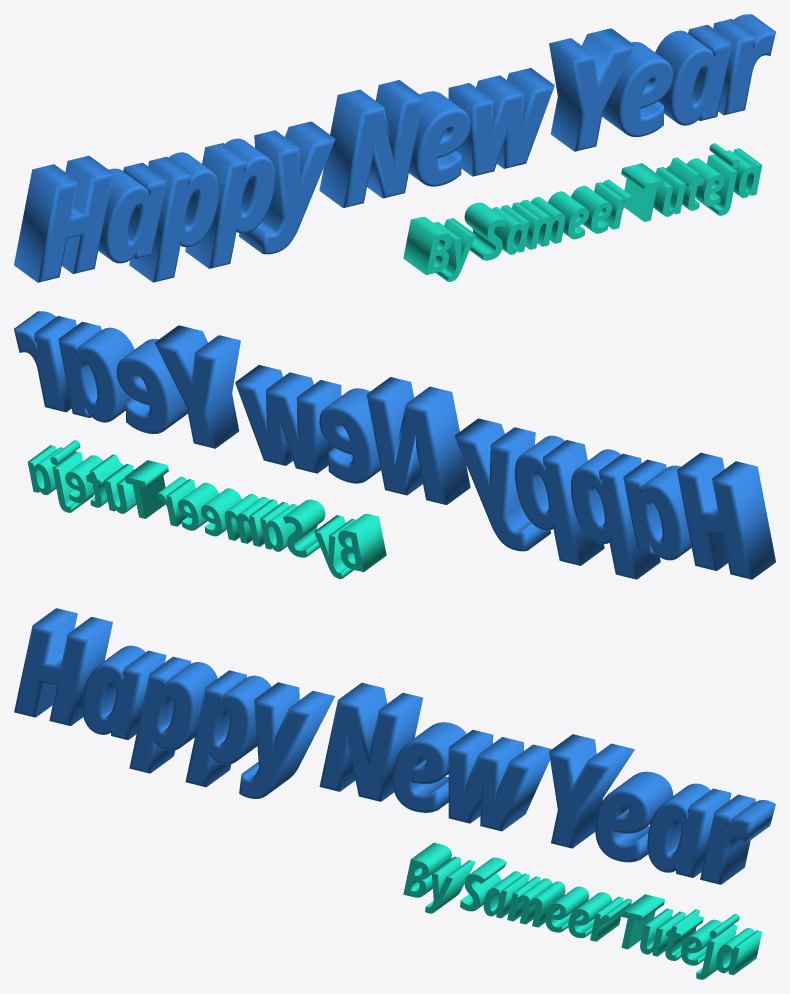
The picture shows the model from 3 angles, top to bottom: view 1: azimuth 30°, elevation 25°; view 2: azimuth 150°, elevation 25°; view 3: azimuth 330°, elevation 25°; orthographic projection.
Visible parts, largest first — view 1: Text, Text.001; view 2: Text, Text.001; view 3: Text, Text.001.
Part boxes in pixels (box(x1,y1,x2,y2)): Text: box(14, 14, 775, 282); Text.001: box(403, 143, 762, 281); Text: box(14, 311, 775, 579); Text.001: box(27, 440, 386, 578); Text: box(14, 608, 775, 884); Text.001: box(403, 842, 761, 979).
Bounding box in the file's own units: 1.12 × 0.2775 × 0.07.
